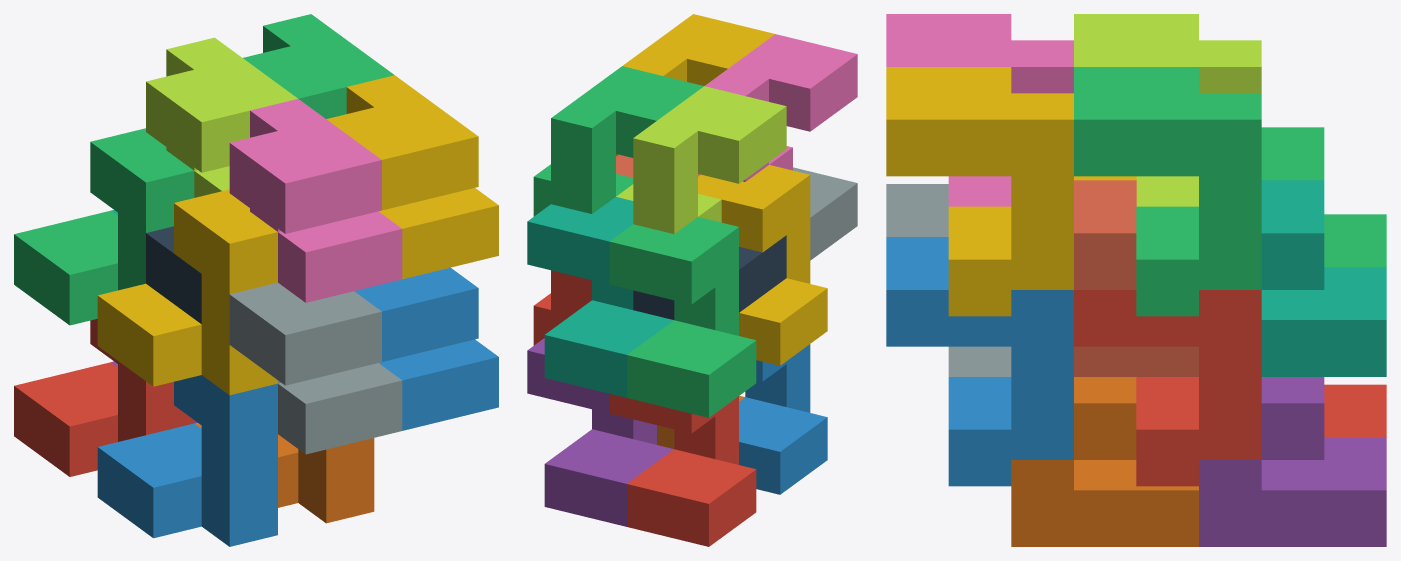
The model's file is tiling.obj.
3 views of the same model, side by side, from view 1: azimuth 30°, elevation 25°; view 2: azimuth 150°, elevation 25°; view 3: azimuth 270°, elevation 25° (orthographic). The views are drawn at different scales.
Parts seen in each view (by area): view 1: copy_2_domain_4, copy_1_domain_2, copy_2_domain_2, copy_1_domain_4, copy_2_domain_8, copy_1_domain_3, copy_2_domain_6, copy_1_domain_1, copy_2_domain_3, copy_2_domain_7, copy_1_domain_6, copy_2_domain_1; view 2: copy_1_domain_3, copy_2_domain_3, copy_1_domain_7, copy_1_domain_1, copy_1_domain_4, copy_2_domain_7, copy_1_domain_5, copy_1_domain_2, copy_2_domain_4, copy_2_domain_8, copy_2_domain_2, copy_2_domain_1 (+1 smaller); view 3: copy_2_domain_8, copy_2_domain_7, copy_2_domain_6, copy_2_domain_5, copy_1_domain_5, copy_1_domain_6, copy_1_domain_7, copy_2_domain_4, copy_2_domain_3, copy_1_domain_8, copy_1_domain_3, copy_2_domain_2 (+1 smaller).
Boxes of the visible parts, x1,y1,x2,y2 form: copy_2_domain_4: [229, 99, 402, 302]; copy_1_domain_2: [97, 375, 277, 546]; copy_2_domain_2: [229, 282, 402, 454]; copy_1_domain_4: [97, 189, 277, 395]; copy_2_domain_8: [326, 75, 498, 279]; copy_1_domain_3: [14, 128, 194, 325]; copy_2_domain_6: [354, 267, 498, 430]; copy_1_domain_1: [14, 319, 194, 476]; copy_2_domain_3: [146, 37, 297, 197]; copy_2_domain_7: [243, 14, 394, 118]; copy_1_domain_6: [194, 422, 374, 523]; copy_2_domain_1: [146, 226, 201, 323]; copy_1_domain_3: [609, 217, 756, 417]; copy_2_domain_3: [616, 86, 786, 233]; copy_1_domain_7: [527, 197, 673, 397]; copy_1_domain_1: [609, 393, 756, 546]; copy_1_domain_4: [698, 165, 827, 365]; copy_2_domain_7: [533, 66, 703, 216]; copy_1_domain_5: [527, 338, 673, 526]; copy_1_domain_2: [739, 344, 827, 494]; copy_2_domain_4: [704, 34, 857, 181]; copy_2_domain_8: [616, 14, 774, 156]; copy_2_domain_2: [793, 167, 857, 260]; copy_2_domain_1: [633, 235, 786, 319]; copy_2_domain_8: [886, 67, 1073, 316]; copy_2_domain_7: [1074, 67, 1261, 316]; copy_2_domain_6: [886, 237, 1073, 486]; copy_2_domain_5: [1074, 290, 1261, 486]; copy_1_domain_5: [1199, 377, 1386, 546]; copy_1_domain_6: [1011, 377, 1198, 546]; copy_1_domain_7: [1261, 180, 1386, 376]; copy_2_domain_4: [886, 14, 1073, 206]; copy_2_domain_3: [1074, 14, 1261, 206]; copy_1_domain_8: [1074, 180, 1198, 376]; copy_1_domain_3: [1261, 127, 1386, 267]; copy_2_domain_2: [886, 184, 1011, 376].
Size of the model in its own units: 6 by 8 by 8.
